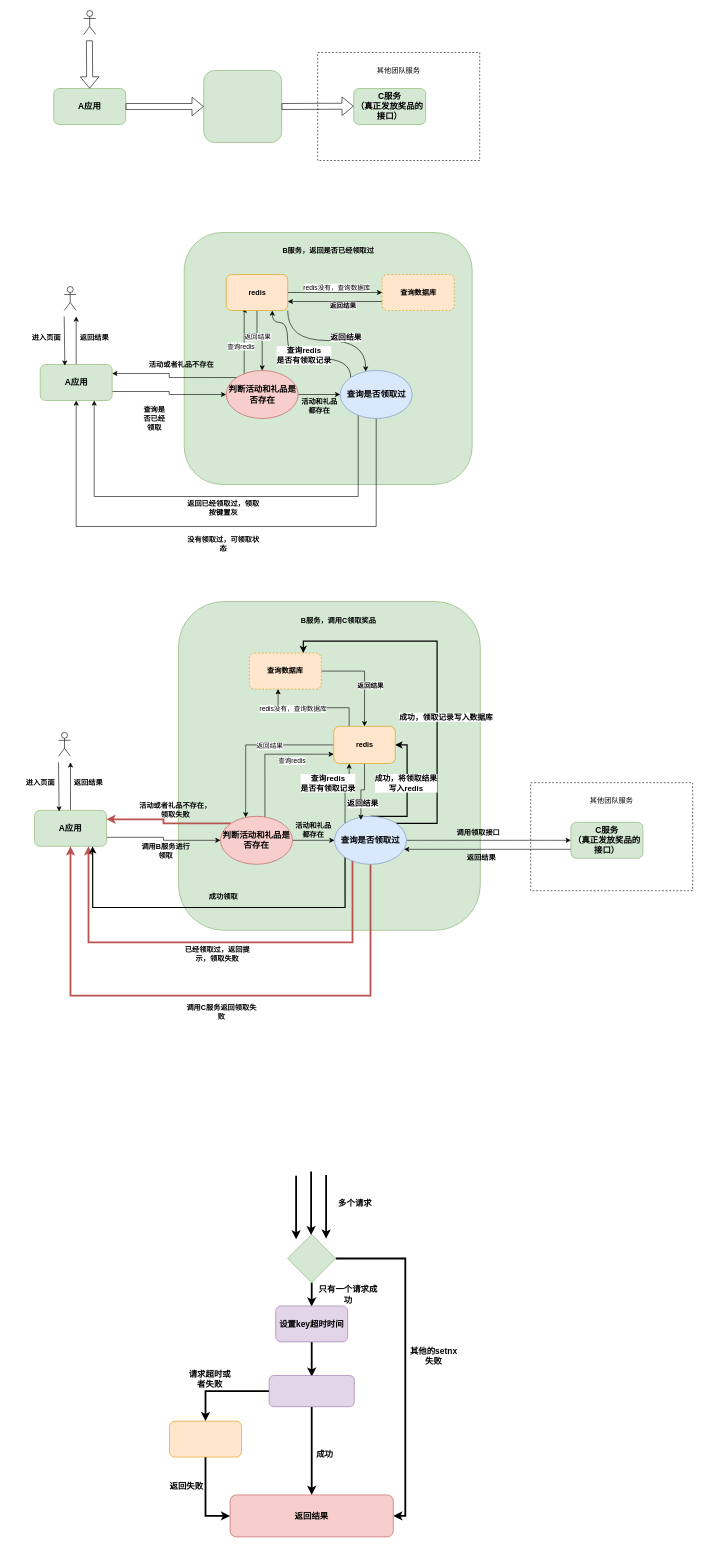
The diagram is 703 pixels wide and 1547 high, and some of its shapes have lost their labels. The shapes that lost their labels are listed below. From the top down, each one's centre as x and y in pixels, then its label:
At (x=242, y=106): "B服务 （调用c服务进行奖品发放）".
At (x=311, y=1258): "setnx".
At (x=311, y=1391): "请求C服务的接口".
At (x=205, y=1438): "删除key".
